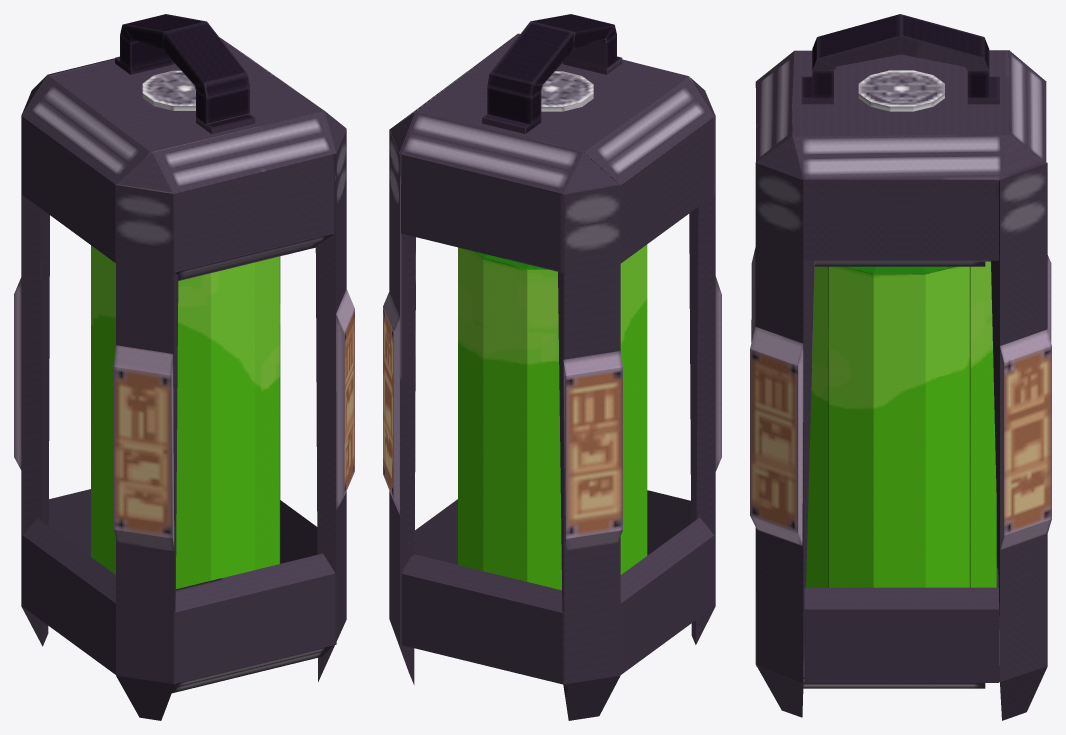
Rendered from EnergyCell.fbx.
3 renders of one model, left to right at view 1: azimuth 30°, elevation 25°; view 2: azimuth 150°, elevation 25°; view 3: azimuth 270°, elevation 25°, orthographic. The views are drawn at different scales.
Visible parts, largest first — view 1: cylinder_1, cuboid_5, cuboid_10, cuboid_1, cuboid_64, cuboid_7, cuboid_6, circle, cuboid_3, plane, cuboid_9, plane_2 (+14 smaller); view 2: cylinder_1, cuboid_6, cuboid_8, cuboid, cuboid_63, circle, cuboid_3, cuboid_5, cuboid_4, plane_1, cuboid_9, plane_2 (+12 smaller); view 3: cylinder_1, cuboid_2, cuboid_7, cuboid_4, cuboid_11, circle, cuboid_65, cuboid_62, plane_3, plane, plane_1, cuboid_61 (+9 smaller).
Part boxes in pixels (x1,y1,x2,y2): cylinder_1: (91,245,280,589); cuboid_5: (116,185,178,720); cuboid_10: (173,553,336,684); cuboid_1: (174,154,334,272); cuboid_64: (114,345,174,551); cuboid_7: (315,130,346,682); cuboid_6: (21,113,49,646); circle: (49,38,323,152); cuboid_3: (22,518,115,674); plane: (152,111,336,193); cuboid_9: (22,116,115,262); plane_2: (21,75,151,184); cylinder_1: (458,244,647,590); cuboid_6: (558,185,620,720); cuboid_8: (402,554,563,684); cuboid: (401,154,563,272); cuboid_63: (563,351,622,550); circle: (417,33,688,151); cuboid_3: (620,517,714,674); cuboid_5: (689,98,715,644); cuboid_4: (389,129,415,684); plane_1: (399,111,583,193); cuboid_9: (620,117,714,263); plane_2: (584,77,714,184); cylinder_1: (806,261,996,587); cuboid_2: (804,587,998,682); cuboid_7: (755,162,814,717); cuboid_4: (991,163,1047,720); cuboid_11: (803,179,998,260); circle: (792,50,1009,136); cuboid_65: (750,327,803,545); cuboid_62: (1000,329,1051,550); plane_3: (792,134,1009,179); plane: (755,51,794,161); plane_1: (1009,50,1045,163); cuboid_61: (900,14,984,66).
Bounding box in the file's own units: 132 × 332 × 140.
Materials: 2 (2 with a texture image).
